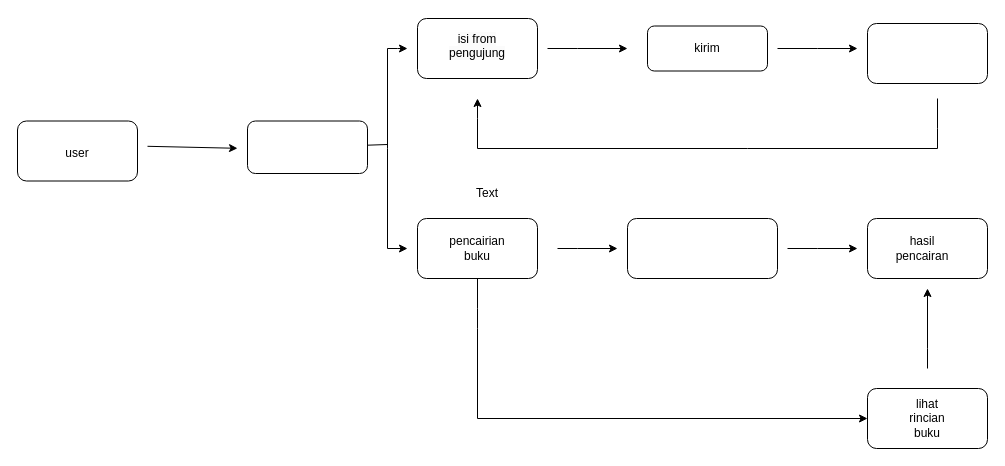
This 1005x466 diagram has some shape labels left out. Each missing label, with the centre of its shape:
"daftar kunjungan" goes at point 927,53.
"masukan kata kunci judul" goes at point 702,248.
"mengujungi perpus" goes at point 307,147.
